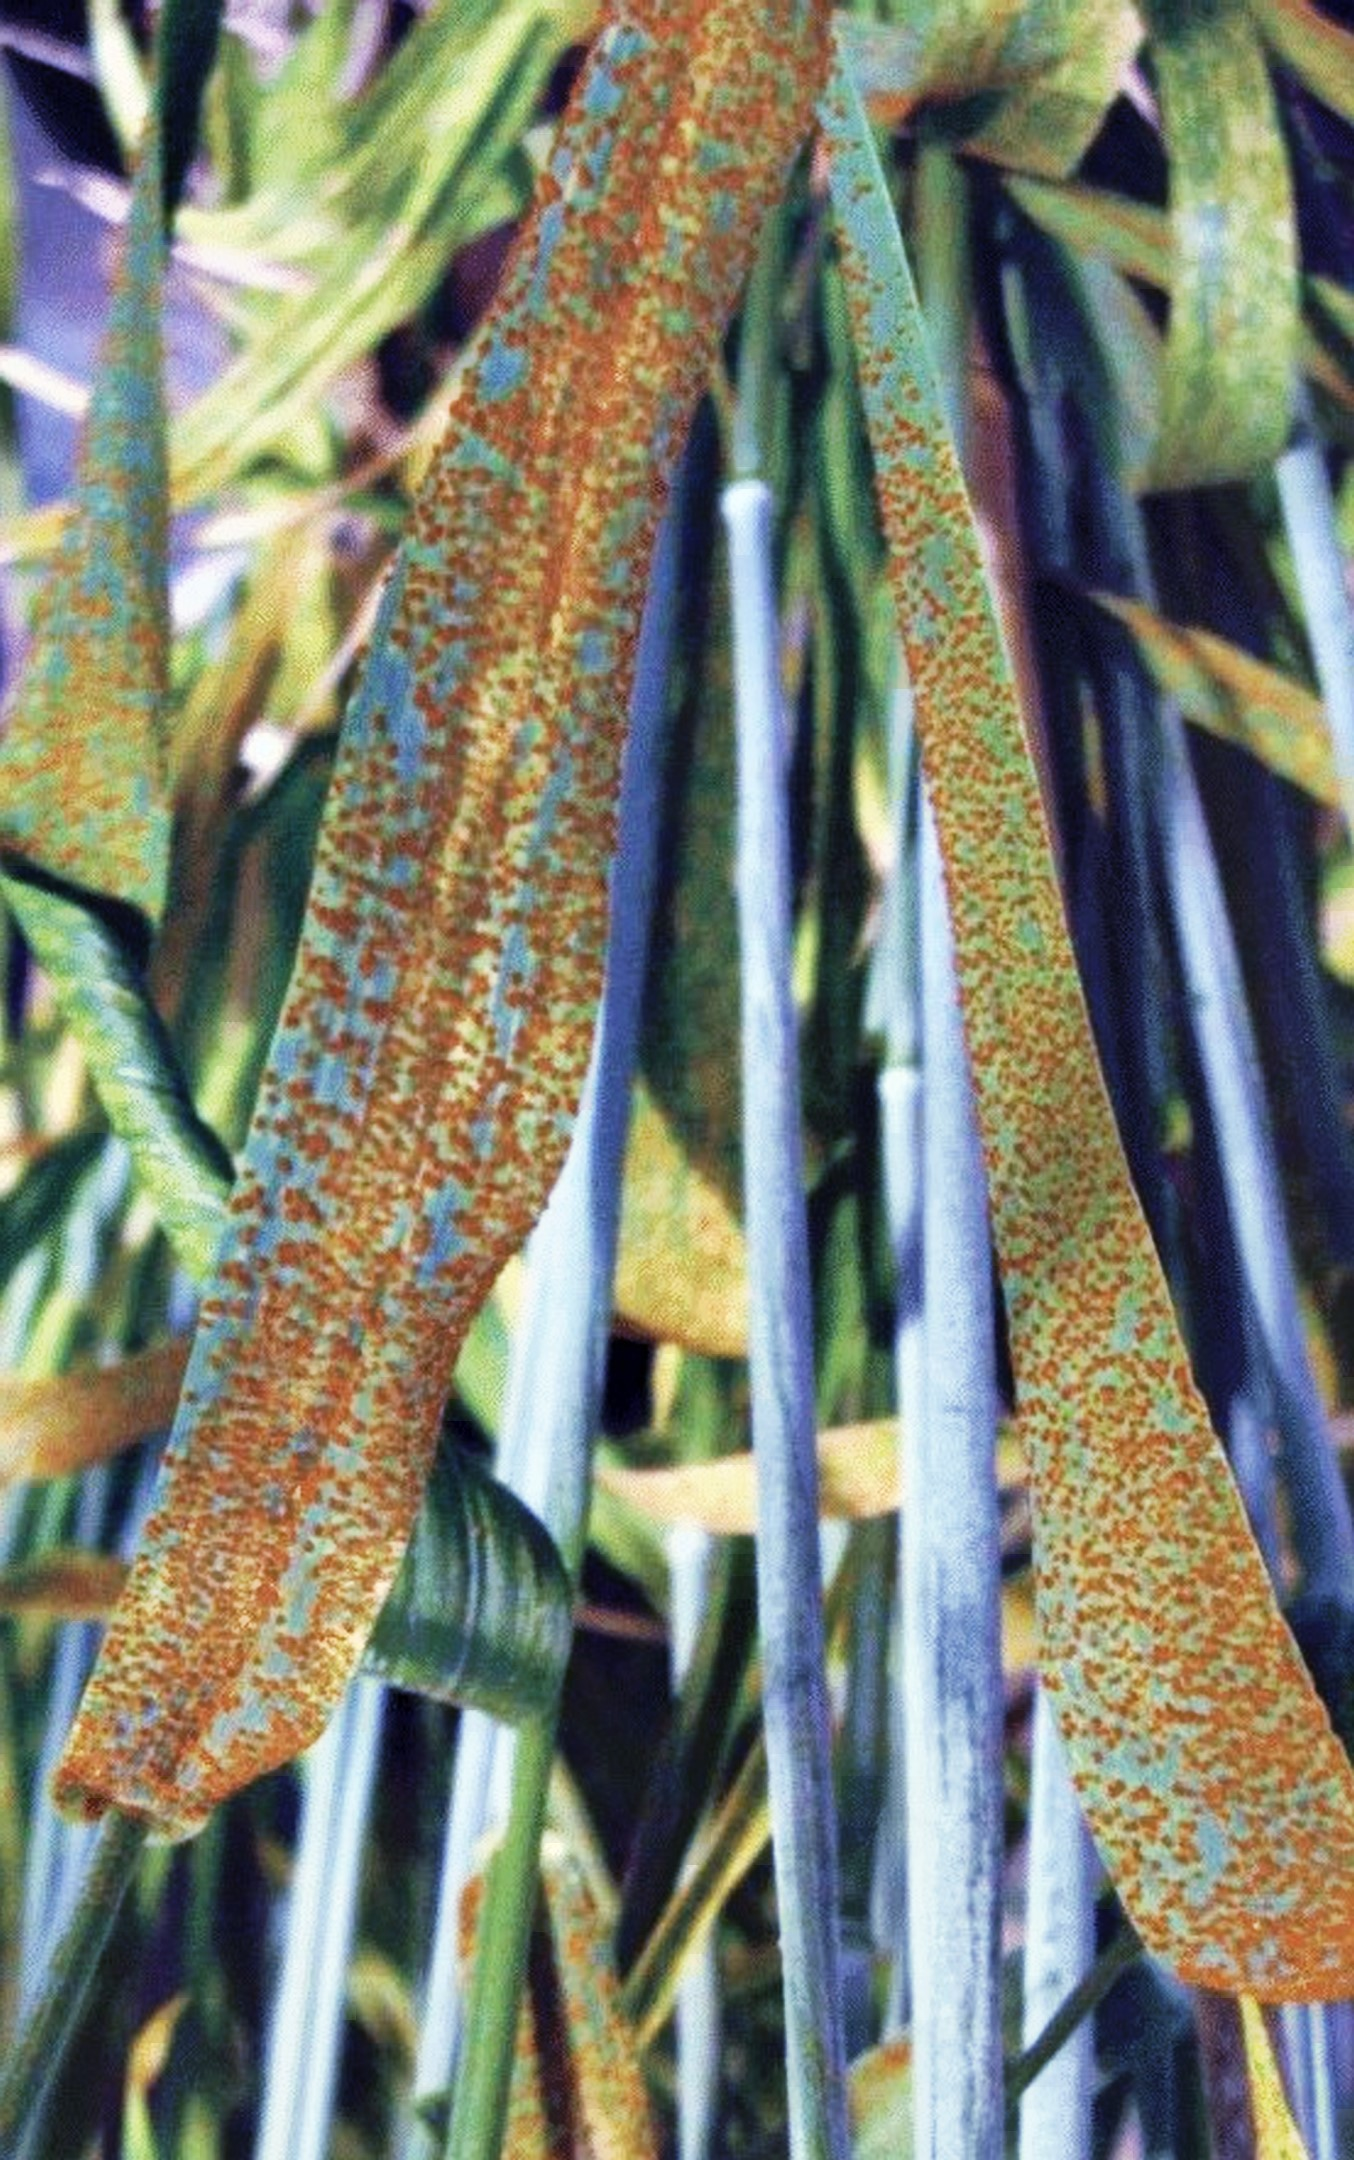Leaf Rust: (134, 87, 785, 1770), (856, 491, 1354, 1915)
